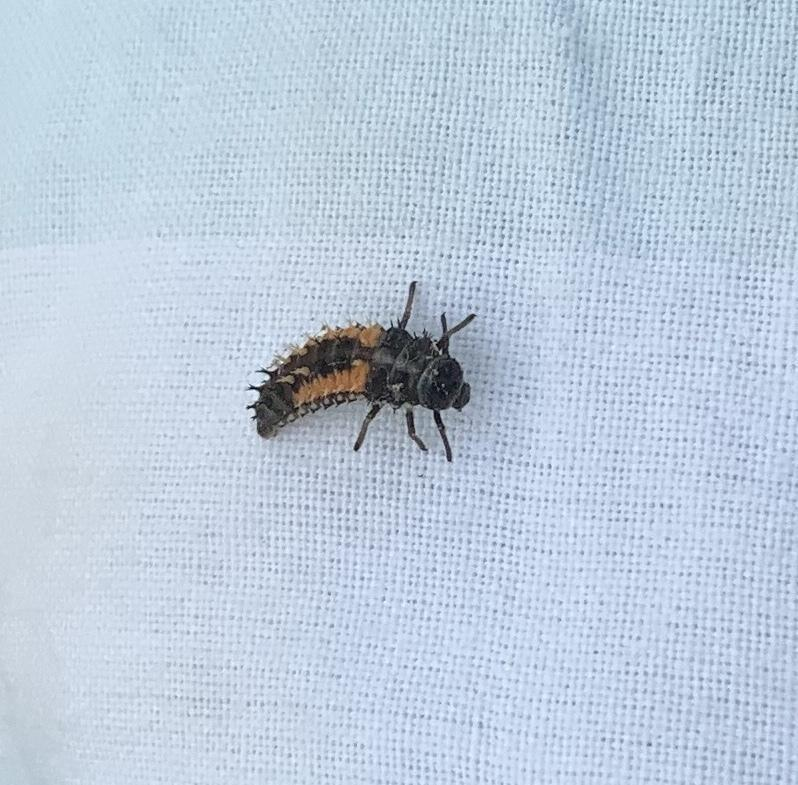ladybug: (243, 275, 479, 465)
